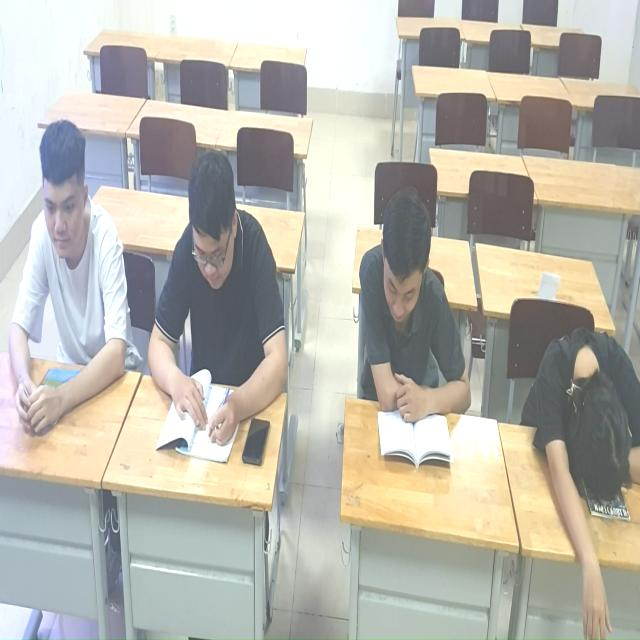read: (146, 144, 296, 482), (349, 185, 473, 475), (7, 142, 124, 437)
sleep: (524, 335, 640, 640)
